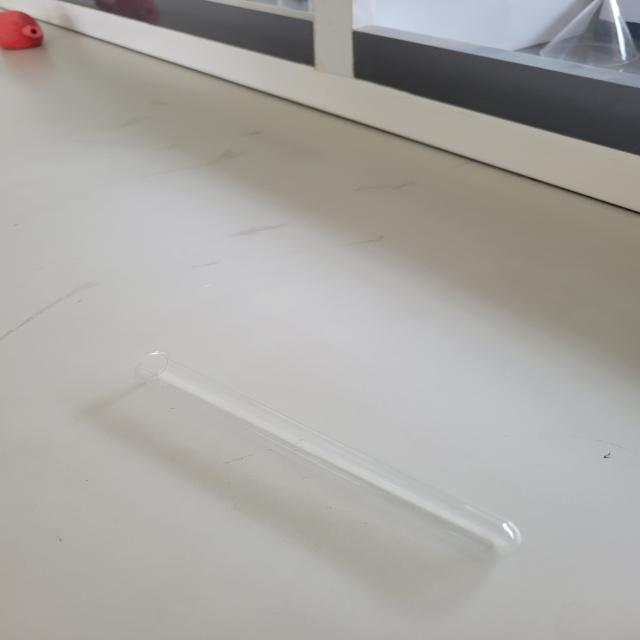Test_Tube: (81, 310, 558, 575)
